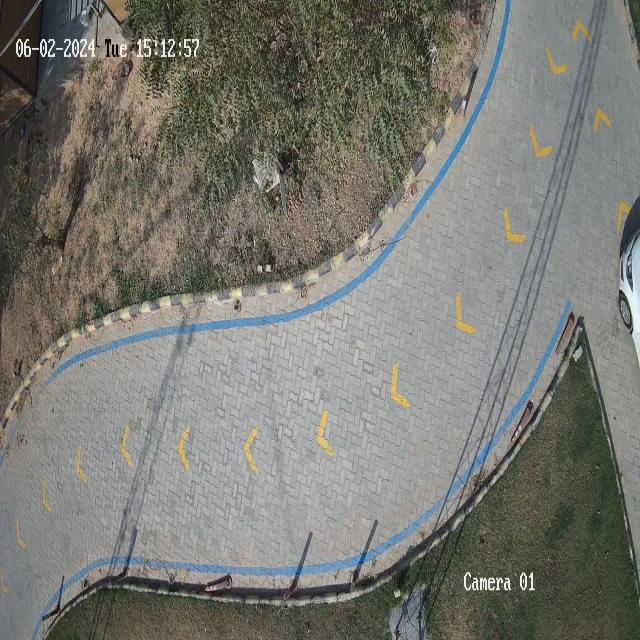car: (620, 230, 640, 362)
